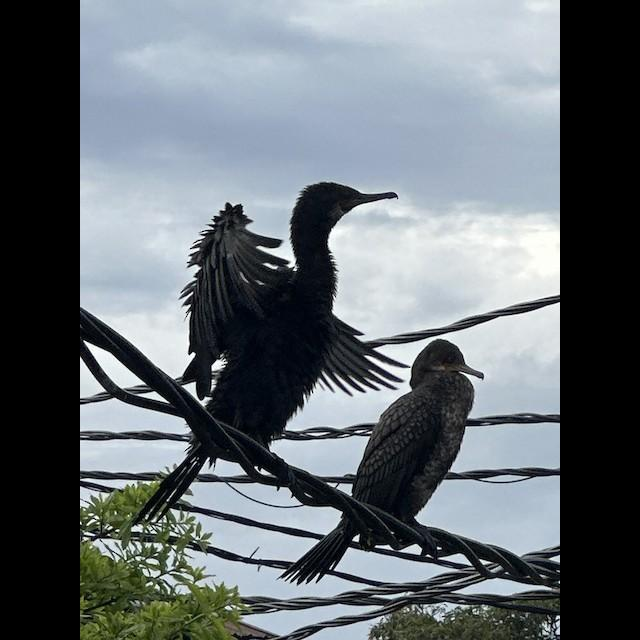cormorant: (315, 337, 487, 581), (188, 173, 418, 331)
